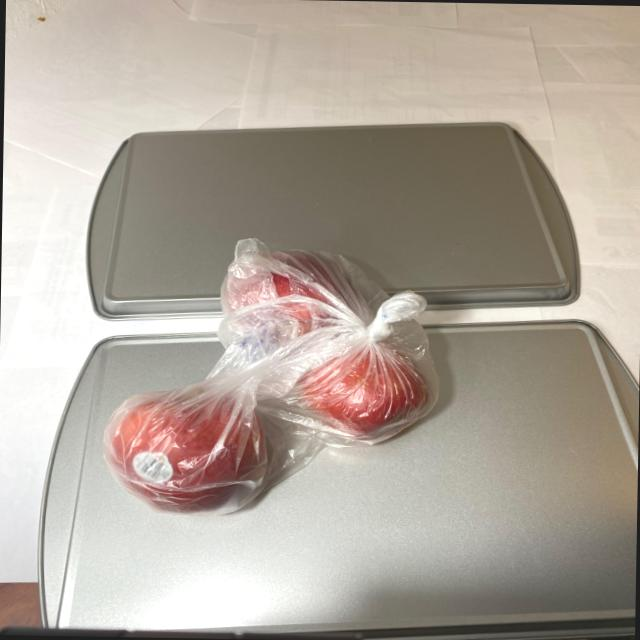apple: (105, 246, 435, 518)
